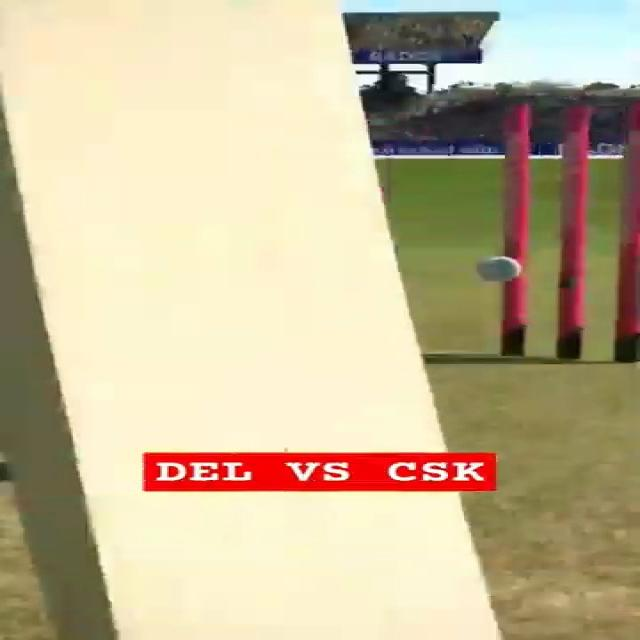ball: (475, 254, 521, 286)
